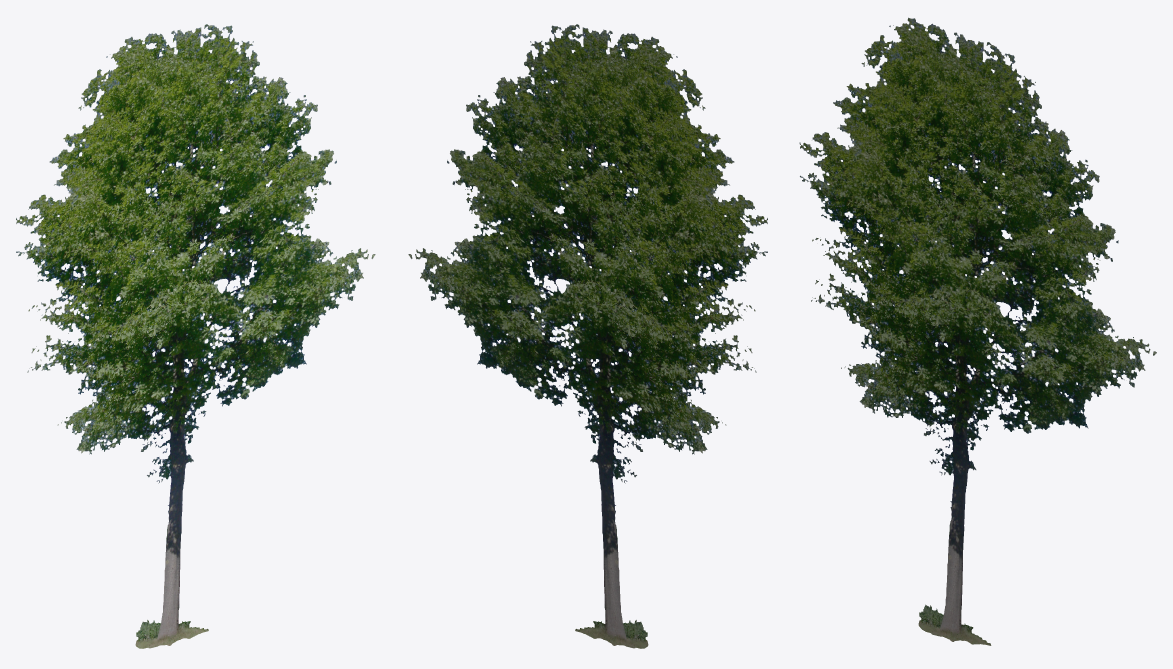
3 renders of one model, left to right at view 1: azimuth 30°, elevation 25°; view 2: azimuth 150°, elevation 25°; view 3: azimuth 330°, elevation 25°, orthographic.
Visible parts, largest first — view 1: SketchUp; view 2: SketchUp; view 3: SketchUp.
Boxes of the visible parts, box(x1,y1,x2,y2) form: SketchUp: box(16, 24, 375, 648); SketchUp: box(408, 24, 767, 648); SketchUp: box(799, 17, 1156, 645).
Bounding box in the file's own units: 259 × 3.41e-13 × 423.
